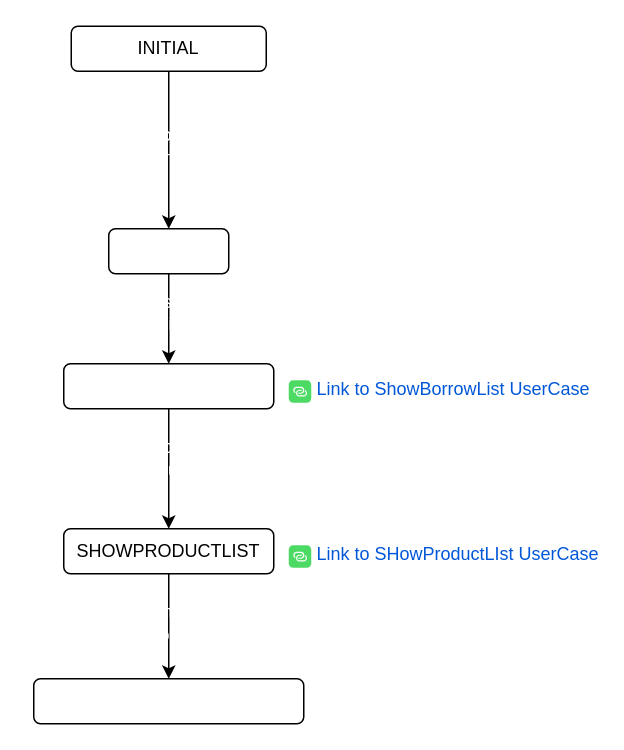
This 624x750 diagram has some shape labels left out. Here are the shapes that lost their labels. From the top down, the box of each, then its label:
(62, 362, 274, 409): SHOWBORROWLIST
(32, 677, 304, 724): FINAL
